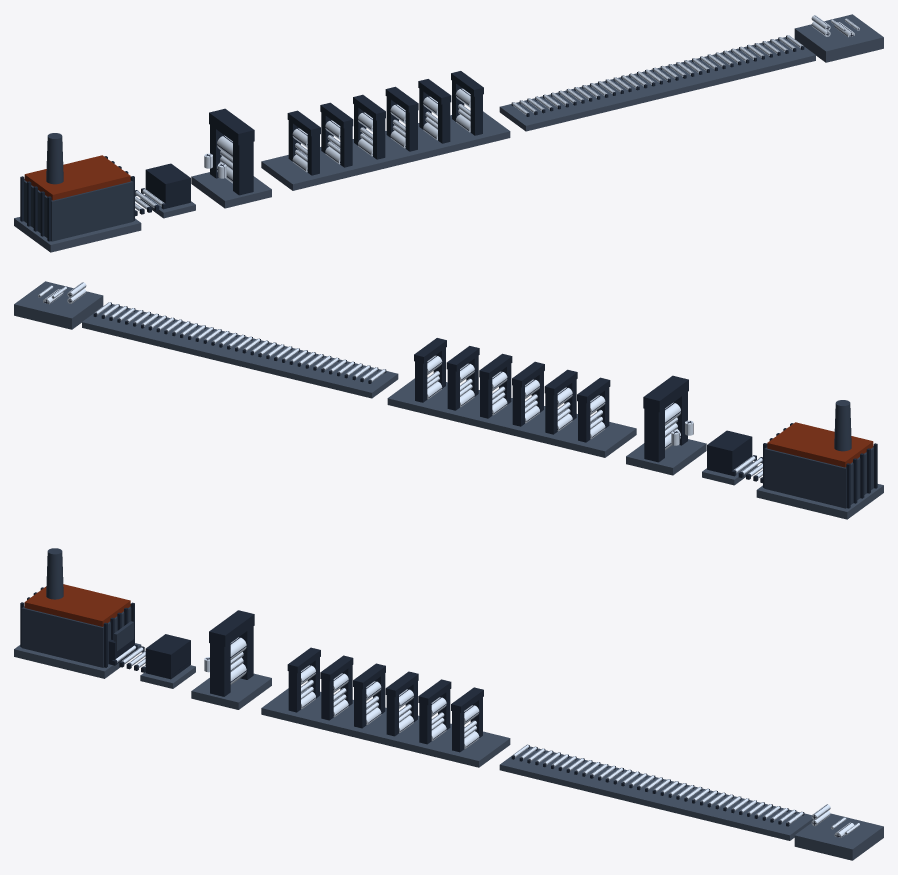
The model's file is hot_strip_mill_complex.glb.
3 renders of one model, top to bottom at view 1: azimuth 30°, elevation 25°; view 2: azimuth 150°, elevation 25°; view 3: azimuth 330°, elevation 25°, orthographic.
Visible parts, largest first — view 1: ReheatingFurnace, RunoutCoolingTable, FinishingMillTrain, RoughingMill, Downcoiler, PrimaryDescaler, FinishingStand_F1, FinishingStand_F4, FinishingStand_F2, FinishingStand_F5, FinishingStand_F3, FinishingStand_F6 (+1 smaller); view 2: ReheatingFurnace, RunoutCoolingTable, FinishingMillTrain, RoughingMill, Downcoiler, PrimaryDescaler, FinishingStand_F1, FinishingStand_F4, FinishingStand_F2, FinishingStand_F5, FinishingStand_F3, FinishingStand_F6 (+1 smaller); view 3: ReheatingFurnace, RunoutCoolingTable, FinishingMillTrain, RoughingMill, Downcoiler, PrimaryDescaler, FinishingStand_F5, FinishingStand_F3, FinishingStand_F2, FinishingStand_F1, FinishingStand_F4, FinishingStand_F6 (+1 smaller).
Part boxes in pixels (x1,y1,x2,y2): ReheatingFurnace: (14, 133, 141, 252); RunoutCoolingTable: (499, 37, 815, 131); FinishingMillTrain: (261, 111, 510, 190); RoughingMill: (191, 108, 271, 208); Downcoiler: (794, 14, 883, 62); PrimaryDescaler: (140, 163, 195, 218); FinishingStand_F1: (287, 110, 320, 175); FinishingStand_F4: (385, 86, 418, 151); FinishingStand_F2: (320, 102, 353, 167); FinishingStand_F5: (418, 79, 451, 143); FinishingStand_F3: (353, 94, 385, 159); FinishingStand_F6: (451, 71, 483, 135); ReheatingFurnace: (756, 400, 883, 519); RunoutCoolingTable: (82, 304, 398, 398); FinishingMillTrain: (387, 378, 636, 457); RoughingMill: (626, 375, 706, 475); Downcoiler: (14, 281, 103, 329); PrimaryDescaler: (702, 430, 757, 485); FinishingStand_F1: (577, 377, 610, 442); FinishingStand_F4: (479, 353, 512, 418); FinishingStand_F2: (544, 369, 577, 434); FinishingStand_F5: (446, 346, 479, 410); FinishingStand_F3: (512, 361, 544, 426); FinishingStand_F6: (414, 338, 446, 402); ReheatingFurnace: (14, 548, 141, 678); RunoutCoolingTable: (499, 746, 813, 840); FinishingMillTrain: (261, 688, 510, 767); RoughingMill: (191, 610, 271, 709); Downcoiler: (794, 813, 883, 860); PrimaryDescaler: (140, 634, 195, 688); FinishingStand_F5: (418, 679, 451, 744); FinishingStand_F3: (353, 663, 385, 728); FinishingStand_F2: (320, 655, 353, 720); FinishingStand_F1: (287, 647, 320, 712); FinishingStand_F4: (385, 671, 418, 736); FinishingStand_F6: (451, 687, 483, 752).
Size of the model in its own units: 92.2 by 10.5 by 7.
